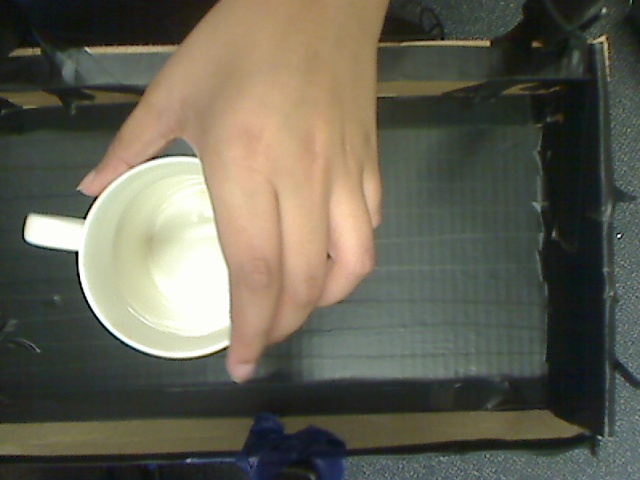mug: (18, 139, 314, 377)
